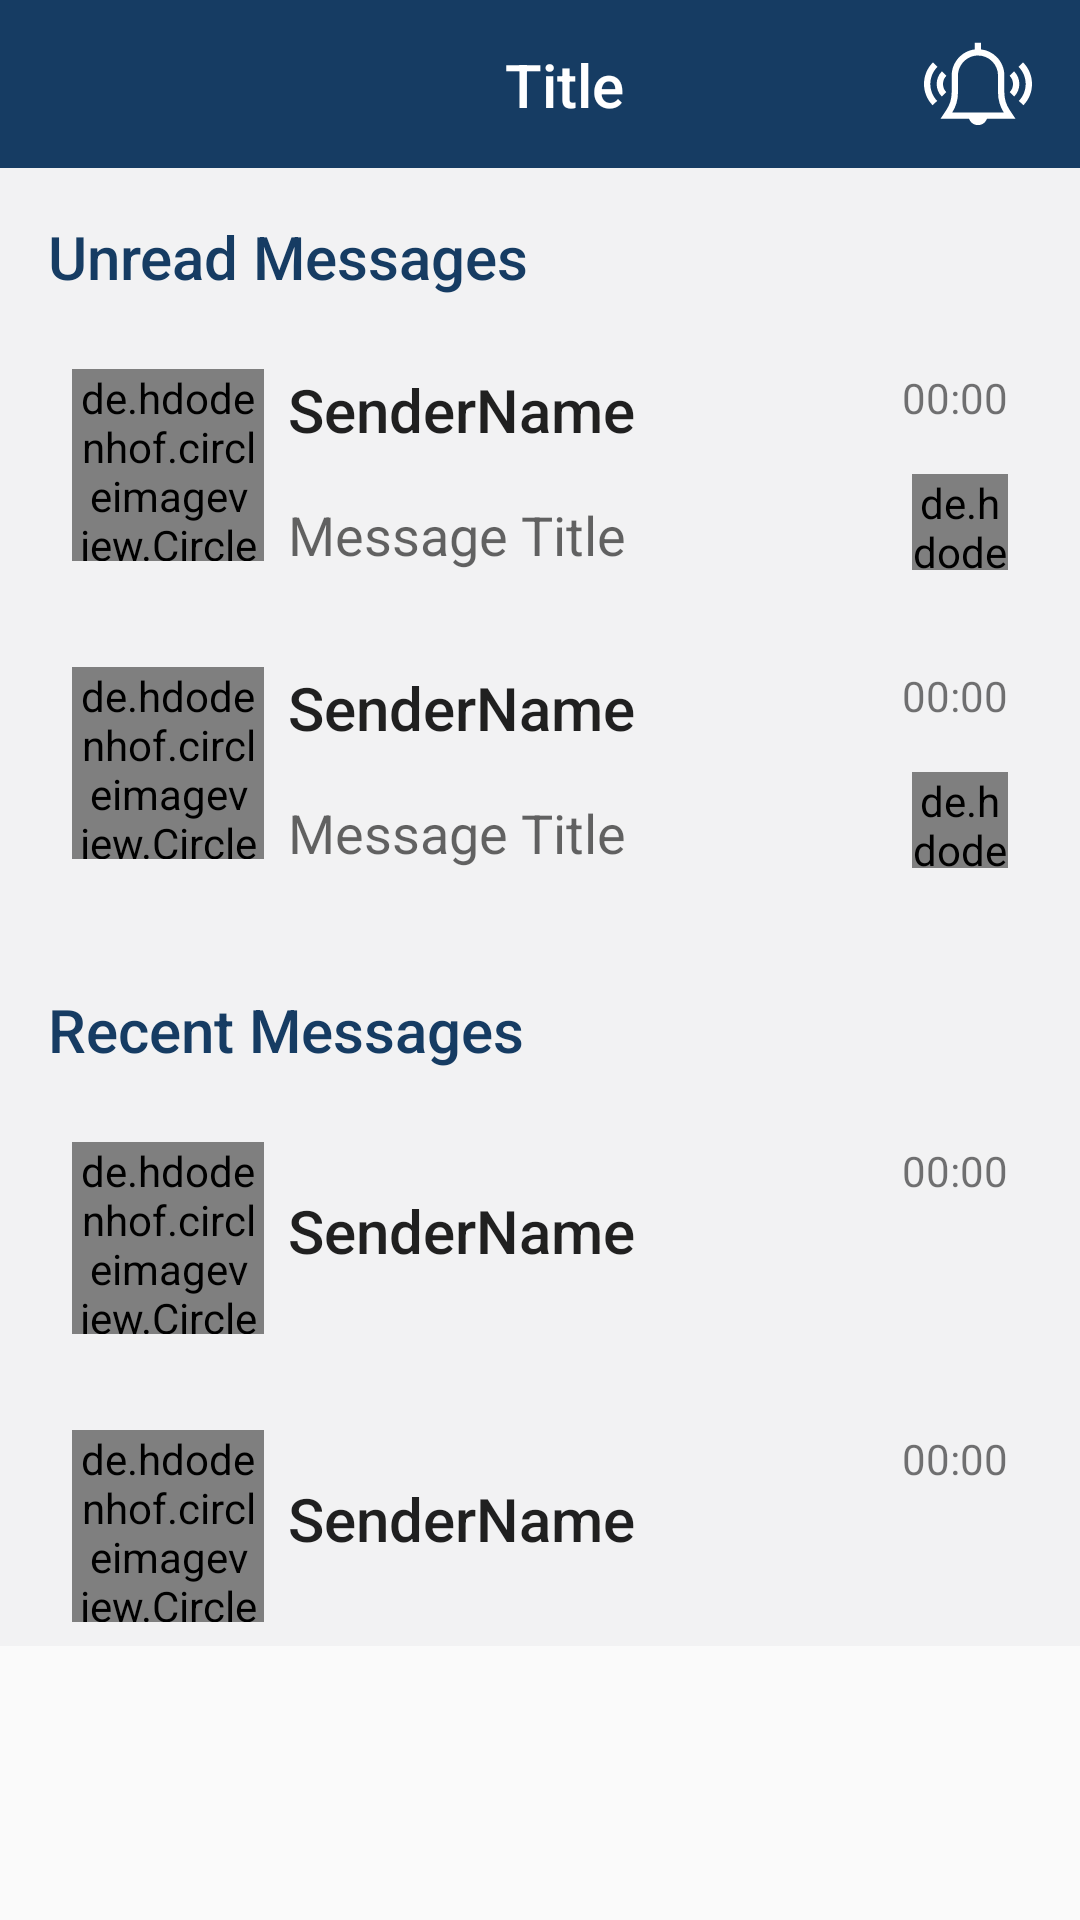

Icon click points for this 1080 x 1920 phone screenshot, format (x=x, y=y):
notification: (x=978, y=83)
